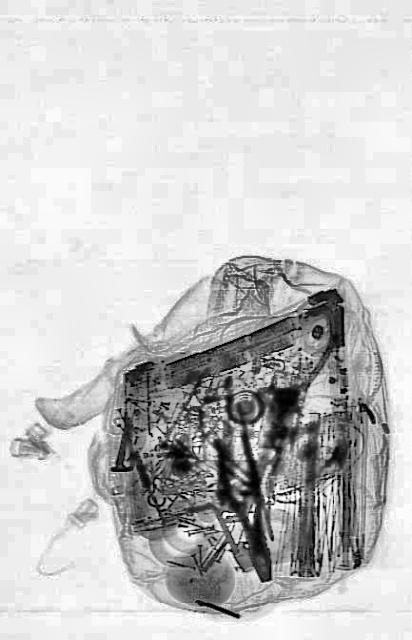Pliers: (212, 423, 282, 589)
